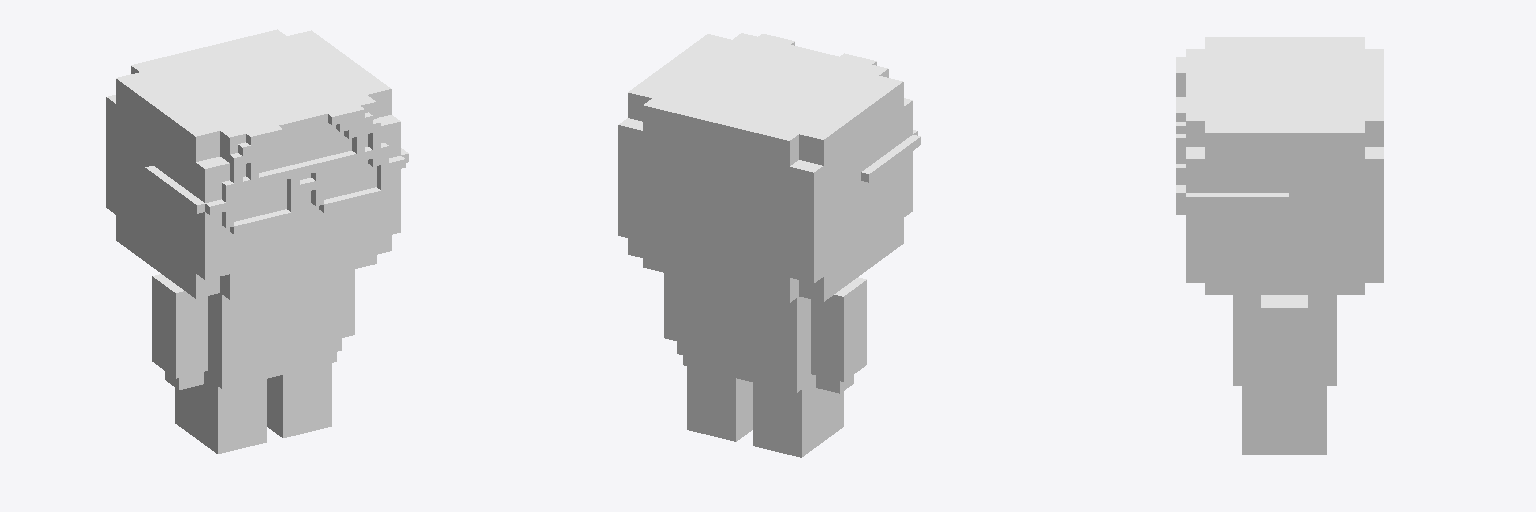
Rendered from Dwight.obj.
The picture shows the model from 3 angles: view 1: azimuth 30°, elevation 25°; view 2: azimuth 150°, elevation 25°; view 3: azimuth 270°, elevation 25°; orthographic projection.
Parts seen in each view (by area): view 1: object 1; view 2: object 1; view 3: object 1.
Part boxes in pixels (x1,y1,x2,y2): object 1: (106, 29, 408, 453); object 1: (618, 33, 920, 457); object 1: (1176, 37, 1383, 454).
Size of the model in its own units: 2.6 by 4 by 2.2.